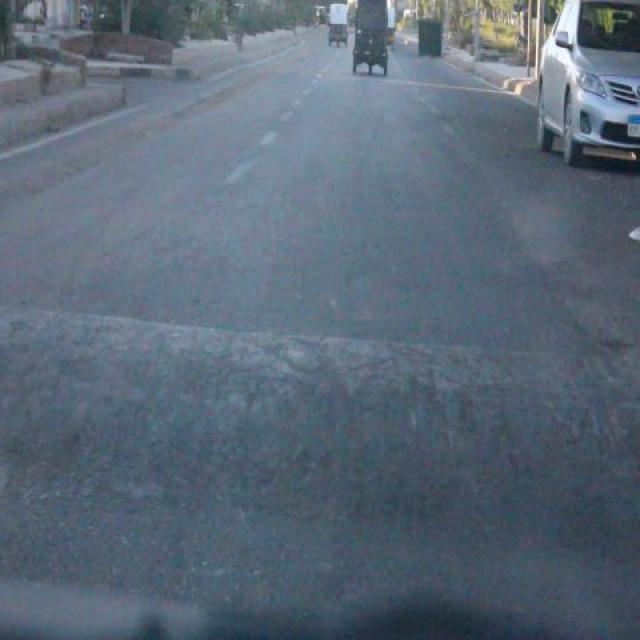Unmarked Bump: (0, 301, 640, 560)
